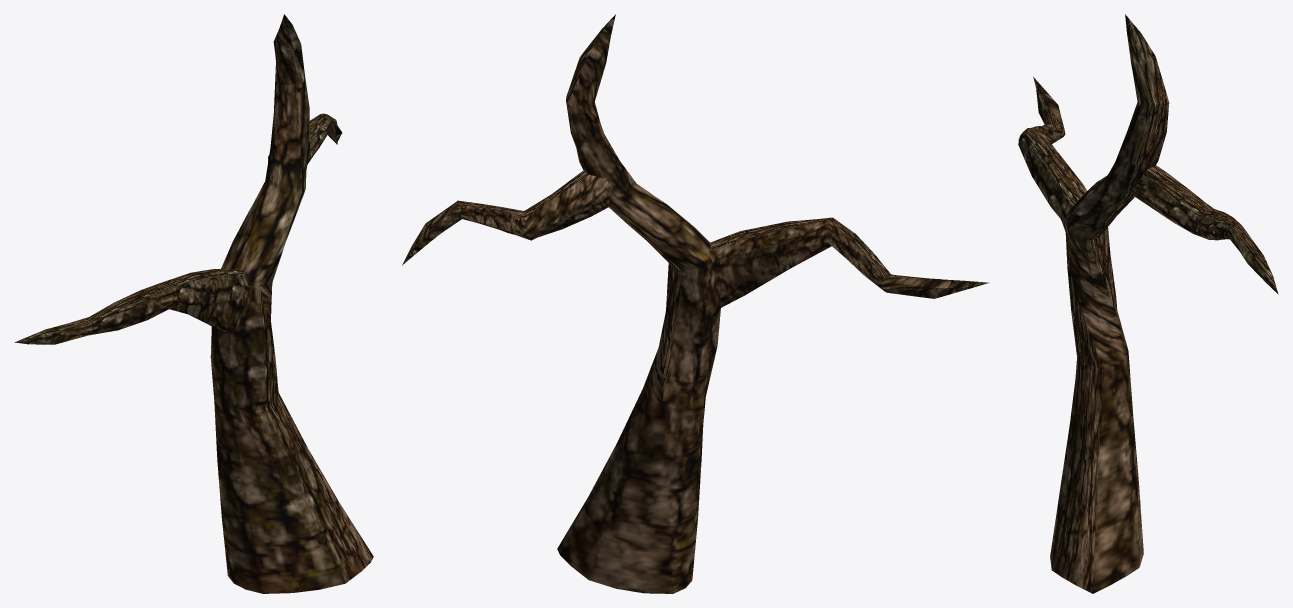
File: tree2.obj
3 views of the same model, side by side, from view 1: azimuth 30°, elevation 25°; view 2: azimuth 150°, elevation 25°; view 3: azimuth 270°, elevation 25° (orthographic). The views are drawn at different scales.
Visible parts, largest first — view 1: ColobotMesh_1.001_ColobotMesh_.001, ColobotMesh_1_ColobotMesh_, ColobotMesh_1.002_ColobotMesh_.002; view 2: ColobotMesh_1.001_ColobotMesh_.001, ColobotMesh_1_ColobotMesh_, ColobotMesh_1.002_ColobotMesh_.002; view 3: ColobotMesh_1.001_ColobotMesh_.001, ColobotMesh_1.002_ColobotMesh_.002, ColobotMesh_1_ColobotMesh_.
Boxes of the visible parts, box(x1,y1,x2,y2) form: ColobotMesh_1.001_ColobotMesh_.001: box(210, 14, 373, 593); ColobotMesh_1_ColobotMesh_: box(14, 269, 249, 344); ColobotMesh_1.002_ColobotMesh_.002: box(268, 113, 342, 164); ColobotMesh_1.001_ColobotMesh_.001: box(557, 14, 720, 593); ColobotMesh_1_ColobotMesh_: box(709, 217, 989, 307); ColobotMesh_1.002_ColobotMesh_.002: box(402, 170, 610, 265); ColobotMesh_1.001_ColobotMesh_.001: box(1050, 14, 1169, 593); ColobotMesh_1.002_ColobotMesh_.002: box(1131, 165, 1278, 294); ColobotMesh_1_ColobotMesh_: box(1018, 77, 1086, 231).
Bounding box in the file's own units: 35.92 × 42.19 × 18.26.
